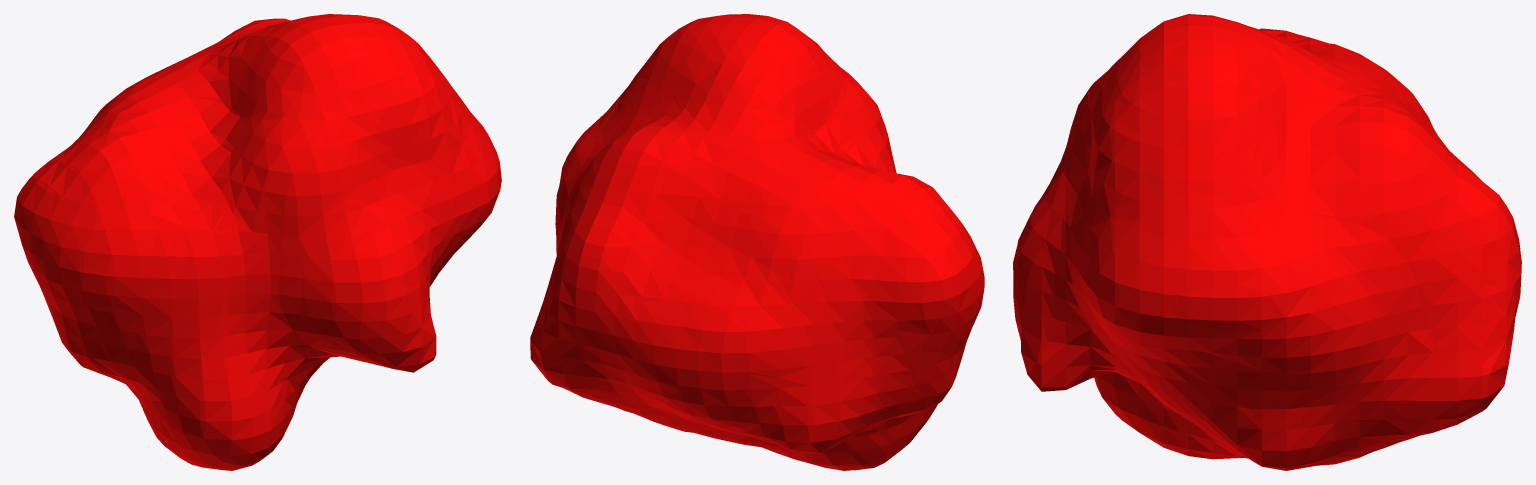
File: mlaB_coarse.dae
3 renders of one model, left to right at view 1: azimuth 30°, elevation 25°; view 2: azimuth 150°, elevation 25°; view 3: azimuth 270°, elevation 25°, orthographic. The views are drawn at different scales.
Visible parts, largest first — view 1: mlaB; view 2: mlaB; view 3: mlaB.
Part boxes in pixels (left/top/right/bottom): mlaB: left=14, top=14, right=501, bottom=470; mlaB: left=530, top=14, right=984, bottom=470; mlaB: left=1013, top=14, right=1521, bottom=470.
Size of the model in its own units: 38.66 by 36.4 by 35.02.
